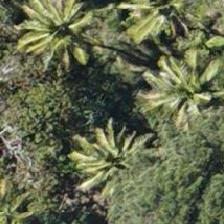coconut_tree: (57, 109, 147, 199), (10, 0, 100, 85), (146, 44, 223, 134)
